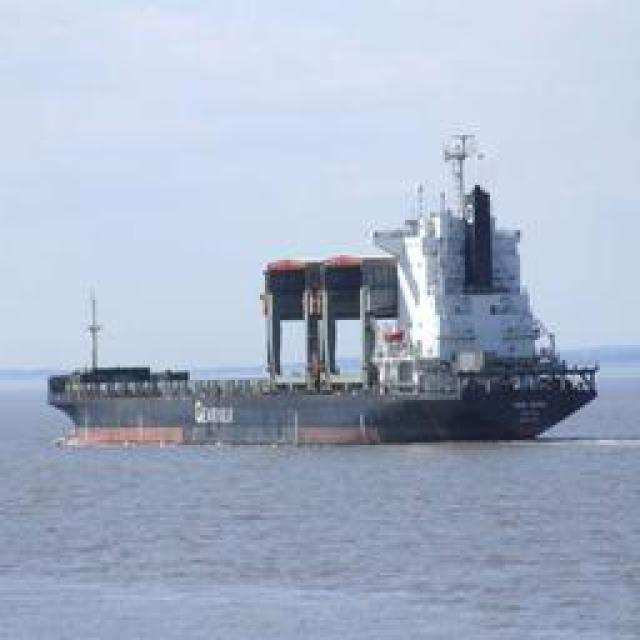Ship: (44, 140, 606, 453)
